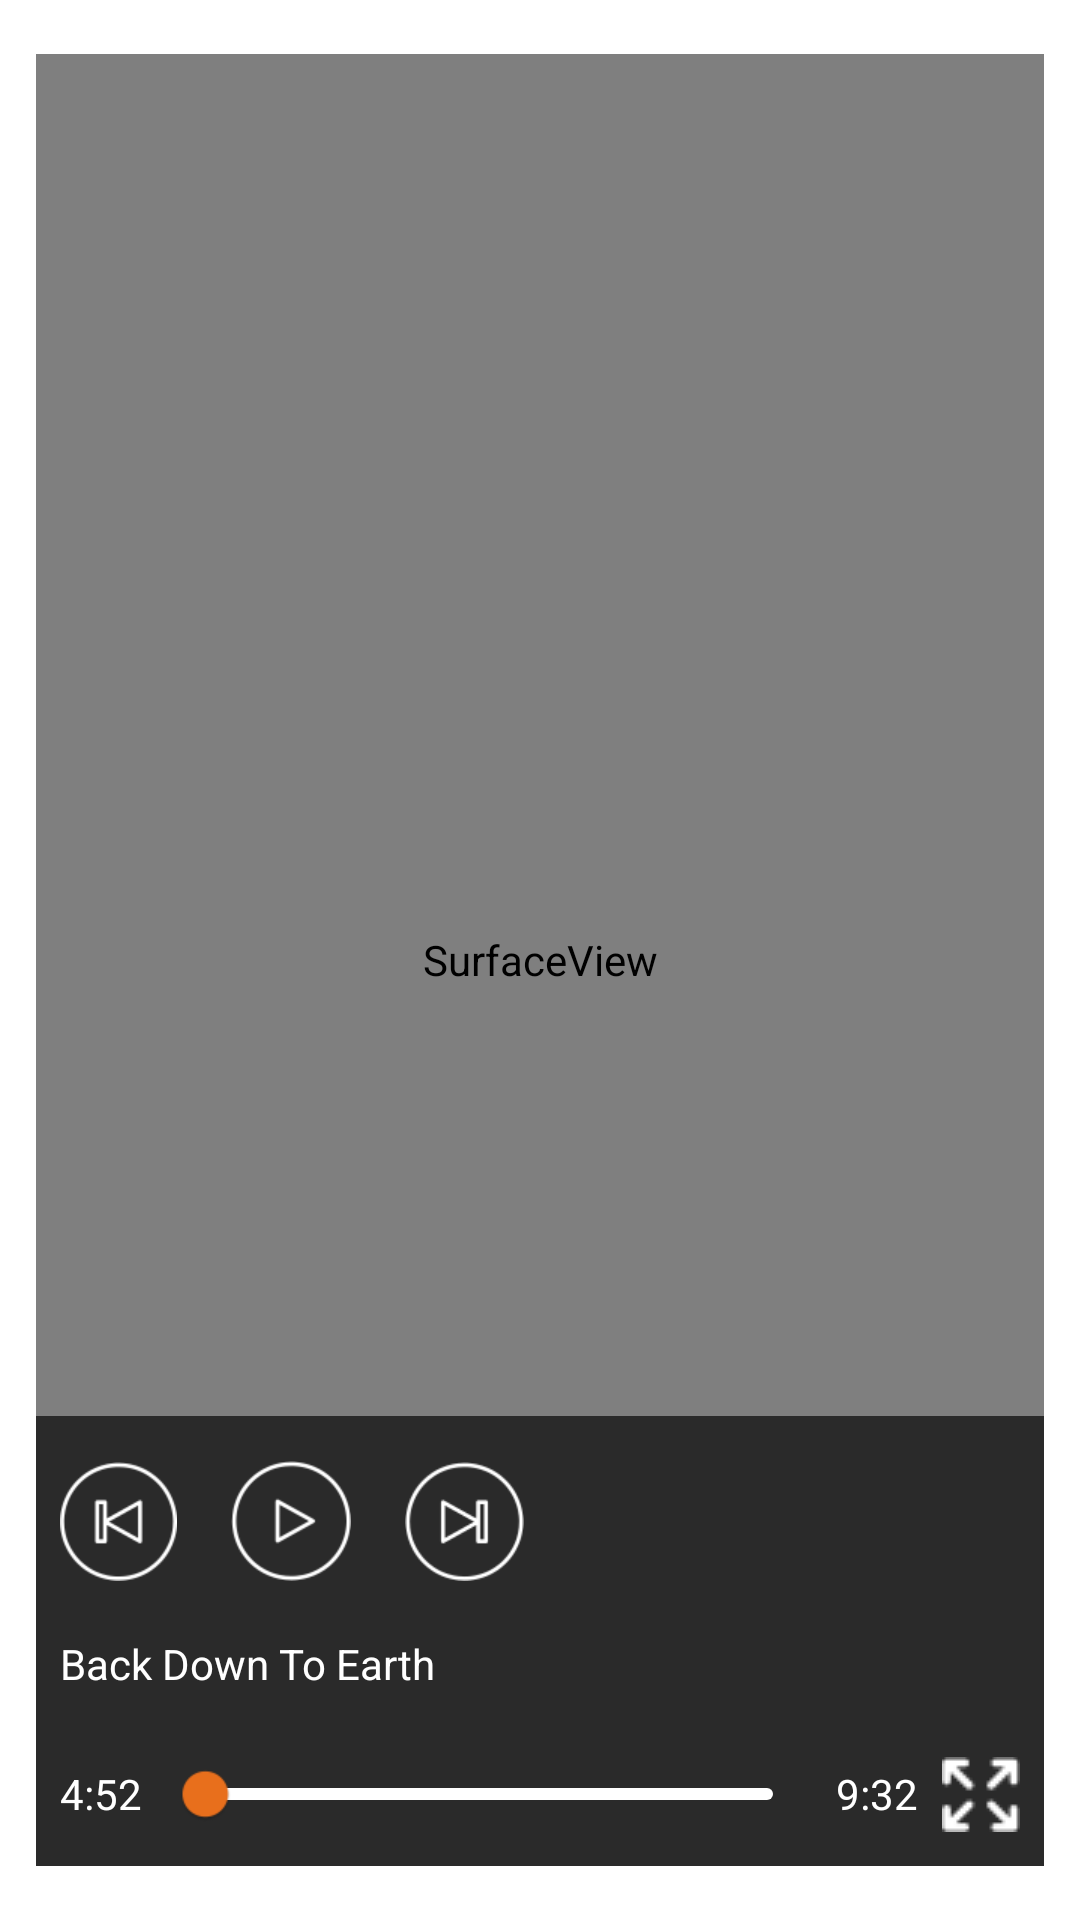

Icon click points for this 1080*1920 phone screenshot, format (x=x, y=y):
video fullscreen: (x=981, y=1794)
video next: (x=464, y=1521)
video play: (x=291, y=1521)
video prev: (x=118, y=1521)
